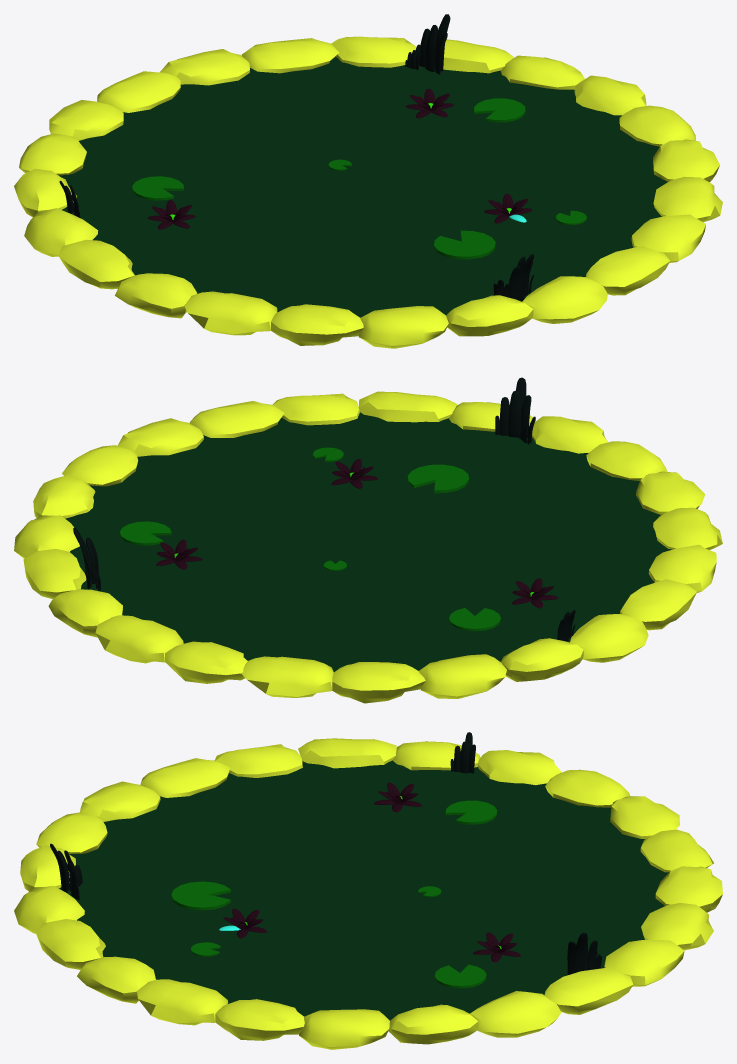
File: Pond.fbx
3 renders of one model, top to bottom at view 1: azimuth 30°, elevation 25°; view 2: azimuth 150°, elevation 25°; view 3: azimuth 270°, elevation 25°, orthographic.
Parts seen in each view (by area): view 1: Pond; view 2: Pond; view 3: Pond.
Part boxes in pixels (x1=…): Pond: x1=14, y1=14, x2=722, y2=348; Pond: x1=14, y1=377, x2=722, y2=703; Pond: x1=14, y1=732, x2=722, y2=1049.
Size of the model in its own units: 4385 by 454 by 4407.
